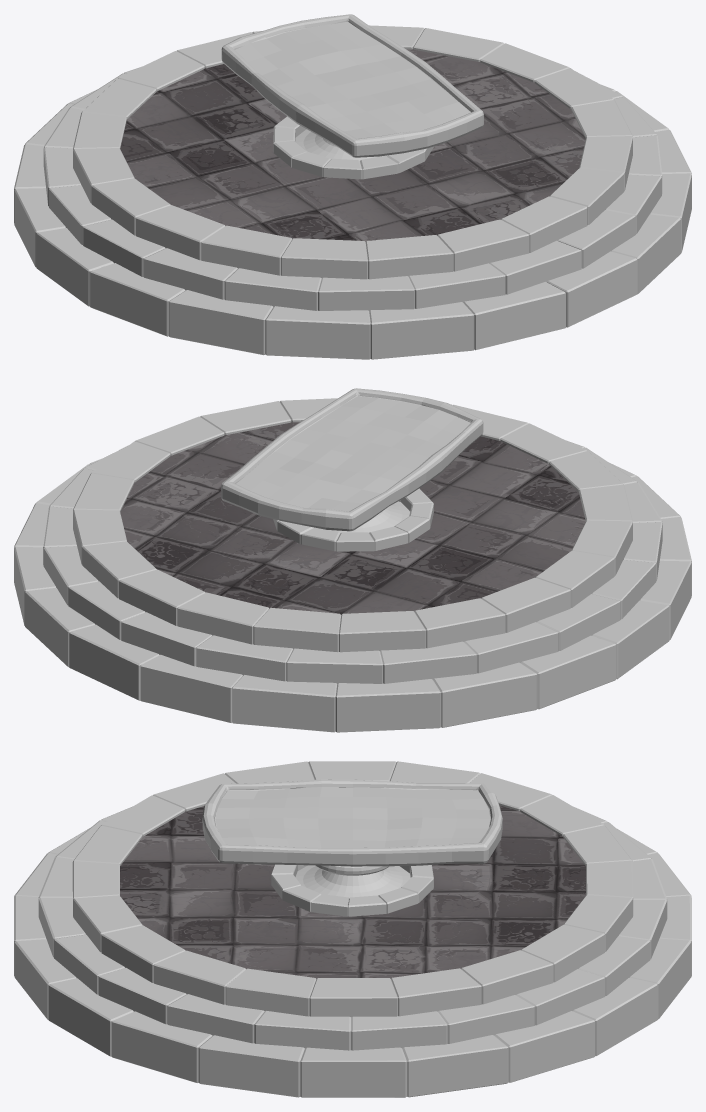
File: Altar.fbx
The picture shows the model from 3 angles, top to bottom: view 1: azimuth 30°, elevation 25°; view 2: azimuth 150°, elevation 25°; view 3: azimuth 270°, elevation 25°; orthographic projection.
Visible parts, largest first — view 1: Cylinder.029, Cube.043, Cube.041, Cube.042, Cube.040, Cube.039, Cylinder.028; view 2: Cylinder.029, Cube.041, Cube.043, Cube.042, Cube.040, Cube.039, Cylinder.028; view 3: Cylinder.029, Cube.041, Cube.043, Cube.042, Cube.040, Cube.039, Cylinder.028.
Part boxes in pixels (x1=…): Cylinder.029: x1=120, y1=49, x2=585, y2=241; Cube.043: x1=14, y1=85, x2=691, y2=359; Cube.041: x1=73, y1=25, x2=632, y2=279; Cube.042: x1=43, y1=67, x2=662, y2=310; Cube.040: x1=221, y1=14, x2=483, y2=157; Cube.039: x1=273, y1=116, x2=434, y2=179; Cylinder.028: x1=295, y1=129, x2=387, y2=160; Cylinder.029: x1=120, y1=422, x2=585, y2=614; Cube.041: x1=73, y1=398, x2=632, y2=652; Cube.043: x1=14, y1=458, x2=691, y2=732; Cube.042: x1=43, y1=440, x2=662, y2=683; Cube.040: x1=221, y1=388, x2=483, y2=531; Cube.039: x1=273, y1=488, x2=433, y2=551; Cylinder.028: x1=332, y1=501, x2=409, y2=532; Cylinder.029: x1=120, y1=805, x2=585, y2=978; Cube.041: x1=72, y1=761, x2=633, y2=1017; Cube.043: x1=14, y1=828, x2=691, y2=1097; Cube.042: x1=38, y1=806, x2=667, y2=1050; Cube.040: x1=202, y1=779, x2=502, y2=866; Cube.039: x1=271, y1=864, x2=433, y2=916; Cylinder.028: x1=295, y1=865, x2=410, y2=898.
Bounding box in the file's own units: 1159 × 267 × 1159.
